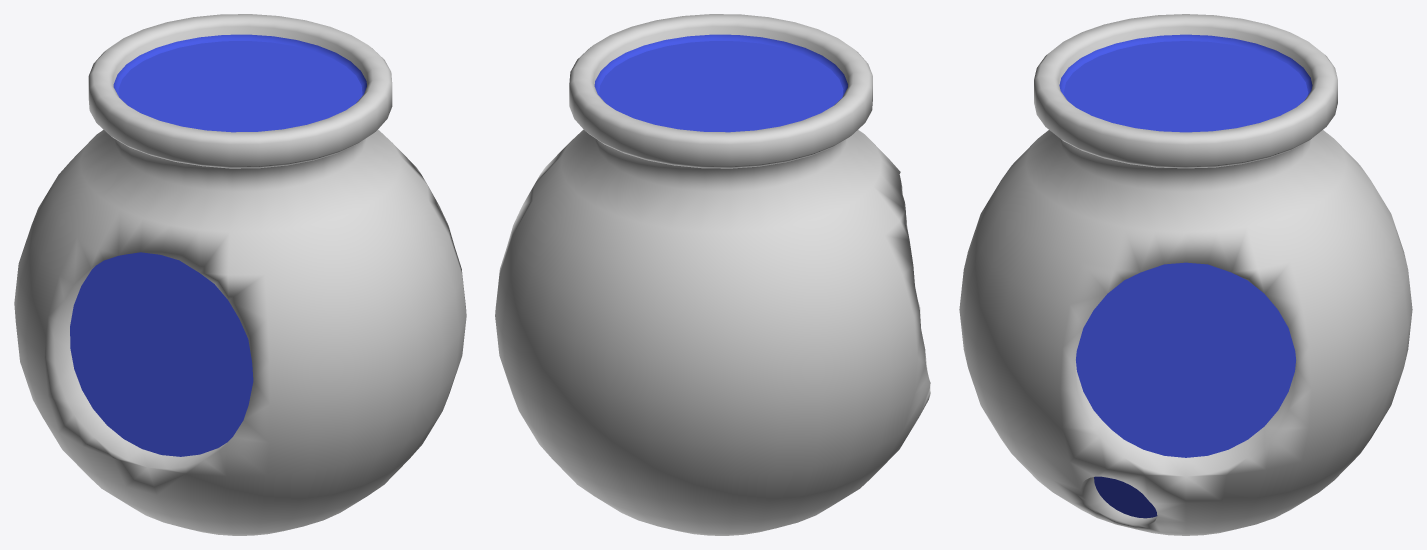
The model's file is Cauldron.fbx.
The picture shows the model from 3 angles, left to right: view 1: azimuth 30°, elevation 25°; view 2: azimuth 150°, elevation 25°; view 3: azimuth 270°, elevation 25°; orthographic projection.
Visible parts, largest first — view 1: Cauldron; view 2: Cauldron; view 3: Cauldron.
Part boxes in pixels (box(x1,y1,x2,y2)): Cauldron: box(14, 14, 466, 535); Cauldron: box(495, 14, 930, 535); Cauldron: box(959, 14, 1412, 535).
Bounding box in the file's own units: 0.8673 × 0.963 × 0.9016.
